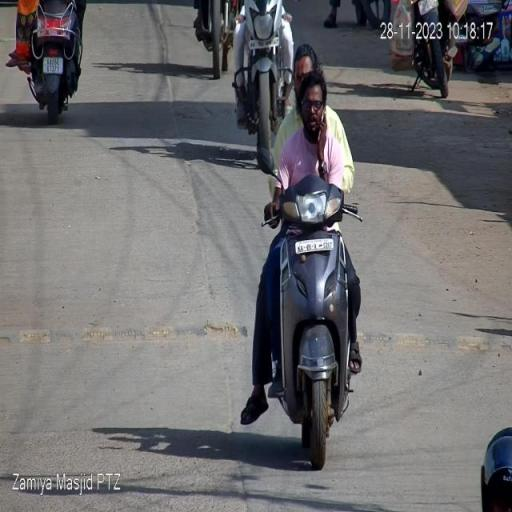using mobile: (318, 91, 331, 168)
